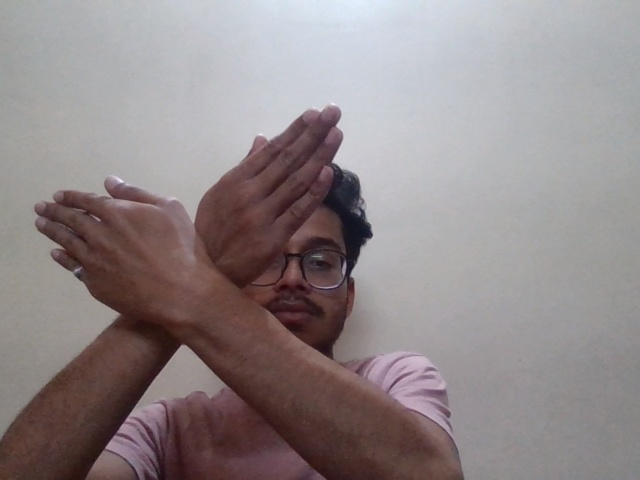feel: (22, 101, 357, 358)
